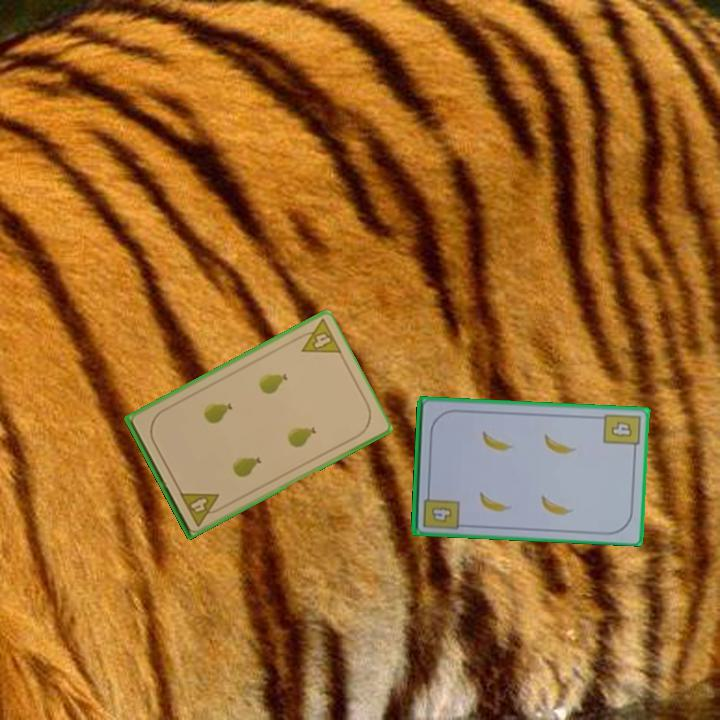4b: (419, 486, 462, 532), (600, 410, 643, 455)
4p: (290, 315, 344, 356), (176, 488, 227, 529)
